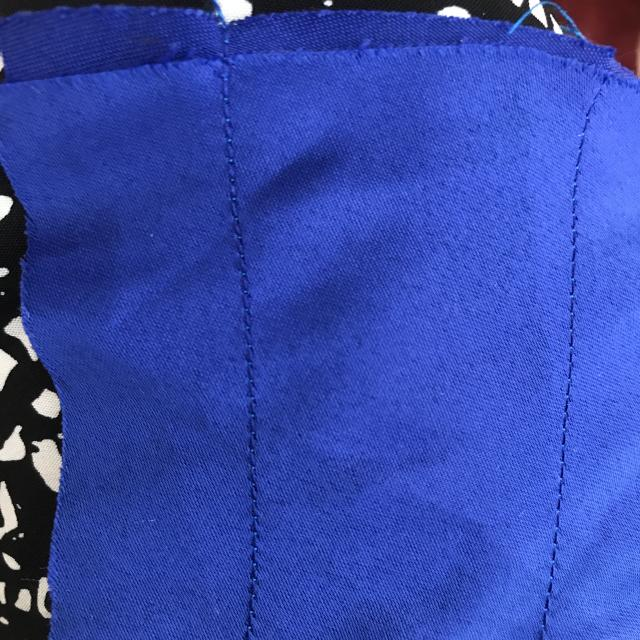good: (222, 288, 278, 500), (212, 133, 256, 261), (558, 247, 585, 450), (550, 485, 574, 570)
